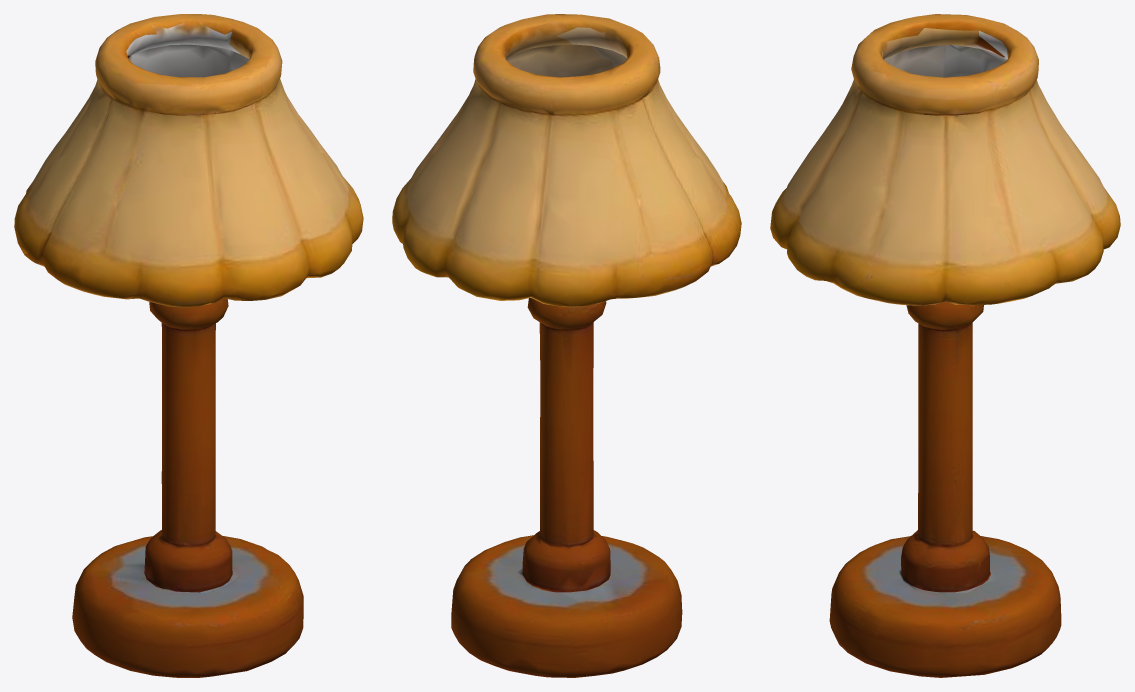
File: lamp_cozy.glb
The picture shows the model from 3 angles, left to right: view 1: azimuth 30°, elevation 25°; view 2: azimuth 150°, elevation 25°; view 3: azimuth 270°, elevation 25°; orthographic projection.
Parts seen in each view (by area): view 1: textured_mesh.obj; view 2: textured_mesh.obj; view 3: textured_mesh.obj.
Part boxes in pixels (x1,y1,x2,y2): textured_mesh.obj: (14,14,363,677); textured_mesh.obj: (392,14,741,677); textured_mesh.obj: (770,14,1120,677).
Size of what is drawn, in the model's own units: 0.8566 by 1.6 by 0.8685.
Materials: 1 (1 with a texture image).
